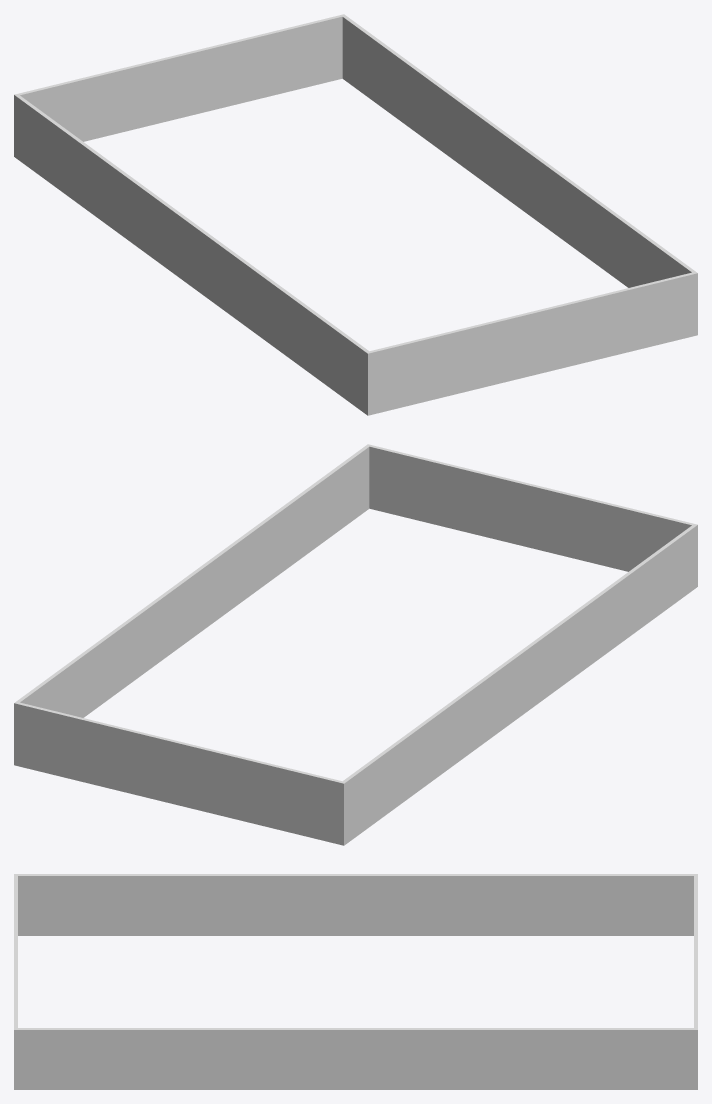
The model's file is bed_frame.FBX.
3 renders of one model, top to bottom at view 1: azimuth 30°, elevation 25°; view 2: azimuth 150°, elevation 25°; view 3: azimuth 270°, elevation 25°, orthographic. The views are drawn at different scales.
Visible parts, largest first — view 1: bed_frame; view 2: bed_frame; view 3: bed_frame.
Part boxes in pixels (<box>): bed_frame: <box>14,14,697,415</box>; bed_frame: <box>14,444,697,845</box>; bed_frame: <box>14,874,697,1089</box>.
Bounding box in the file's own units: 89.03 × 16 × 165.
